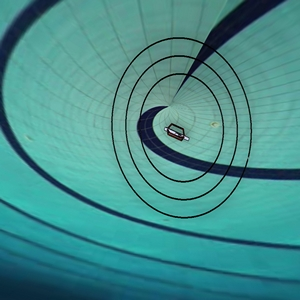circle: (107, 31, 258, 225)
submarine: (160, 115, 195, 152)
